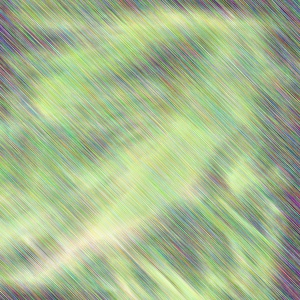Leaf_Blast: (140, 94, 204, 233)
